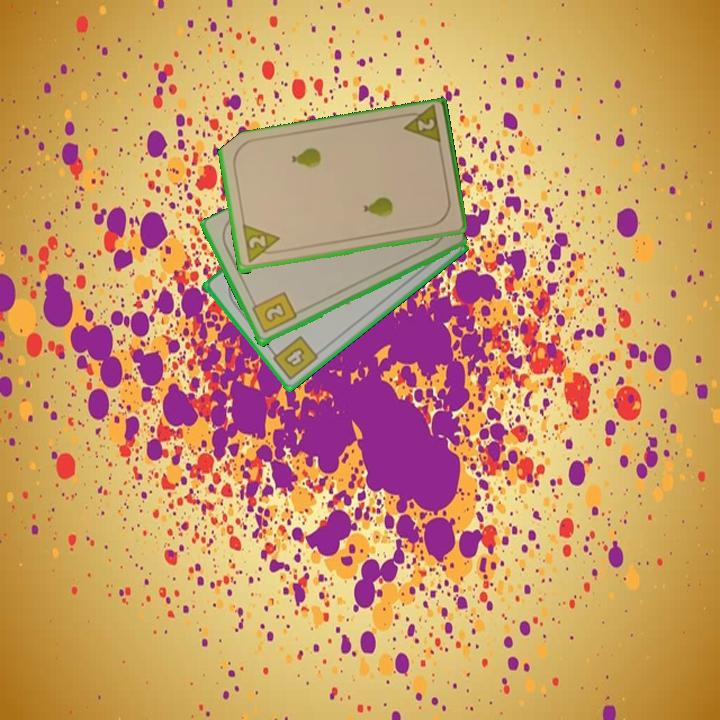2b: (248, 289, 299, 336)
2p: (239, 222, 284, 267), (413, 115, 438, 134)
4b: (266, 332, 321, 383)
